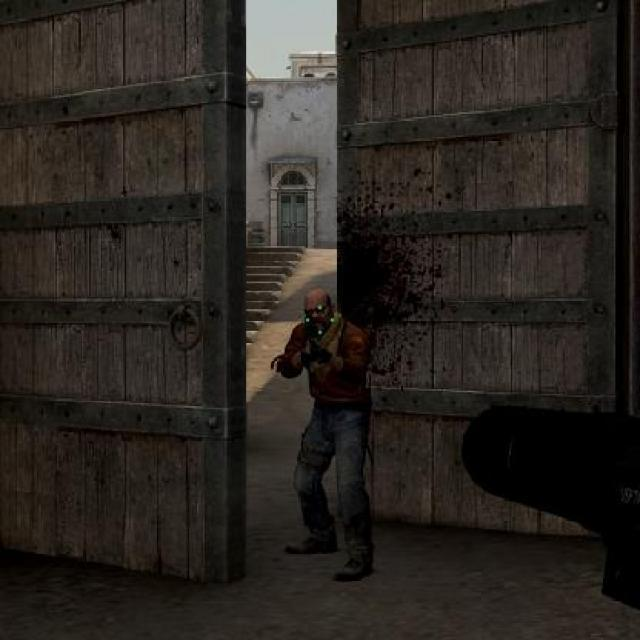Dead: (301, 289, 337, 332)
T-Body: (266, 288, 385, 582)
